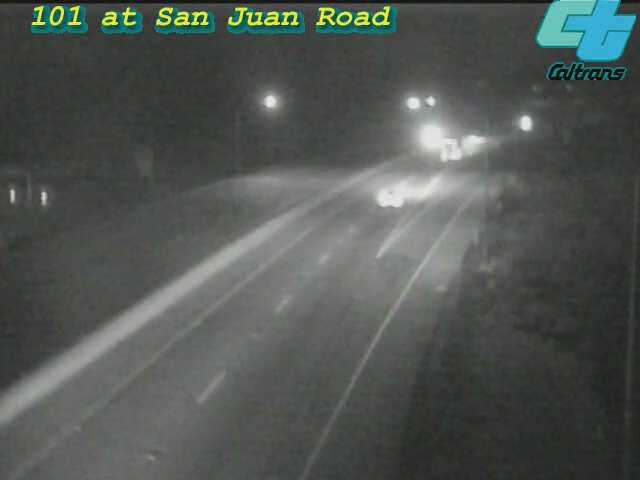vehicle: (354, 153, 434, 233), (406, 111, 456, 161), (504, 98, 554, 148), (452, 114, 502, 164), (428, 125, 478, 175)
